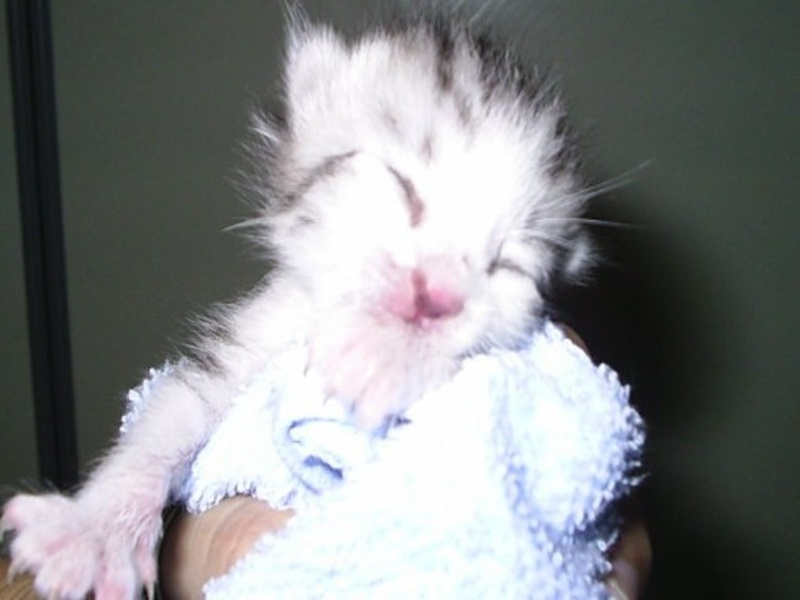cat: (29, 9, 644, 586)
